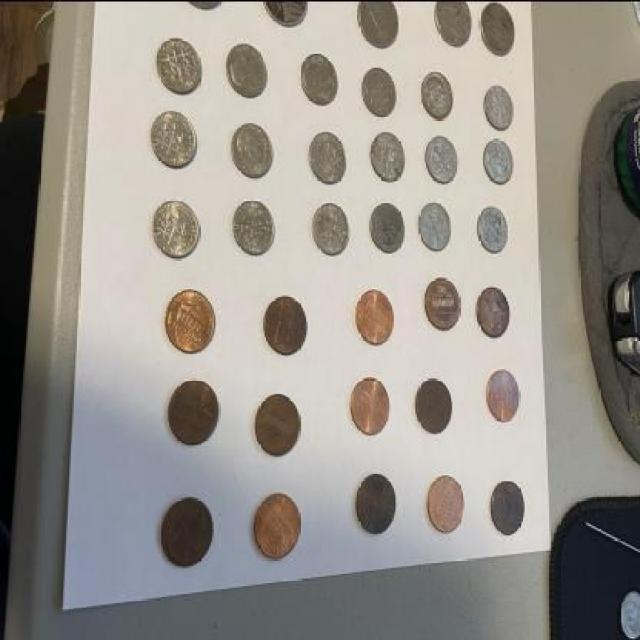Dime: (157, 37, 205, 100), (150, 106, 198, 168), (154, 198, 203, 257), (224, 40, 270, 98), (232, 198, 276, 254), (230, 120, 272, 178), (311, 200, 351, 256), (360, 64, 400, 118), (414, 198, 454, 251), (308, 129, 348, 182), (300, 52, 340, 105), (370, 129, 408, 182), (369, 202, 406, 250), (423, 134, 459, 183), (476, 203, 510, 252), (482, 135, 516, 183), (423, 70, 454, 119), (484, 86, 516, 129)
Nickel: (478, 1, 518, 57), (355, 1, 400, 49), (432, 1, 474, 46)
Penny: (158, 490, 212, 568), (168, 377, 223, 451), (252, 389, 303, 460), (164, 290, 220, 352), (252, 491, 302, 557), (354, 468, 397, 536), (263, 294, 308, 356), (349, 376, 394, 434), (414, 374, 454, 436), (426, 472, 466, 531), (354, 286, 394, 345), (489, 476, 526, 536), (484, 366, 522, 422), (422, 275, 458, 328), (477, 284, 511, 336)
